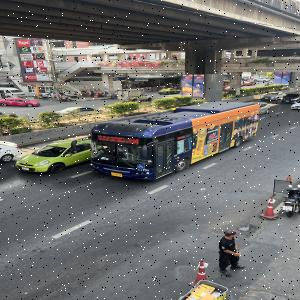Bus Line Number: (128, 136, 141, 144)
Bus Side Number: (136, 169, 150, 172)
Destination Sign: (96, 135, 128, 144)
TSB-Bus: (90, 102, 261, 182)
